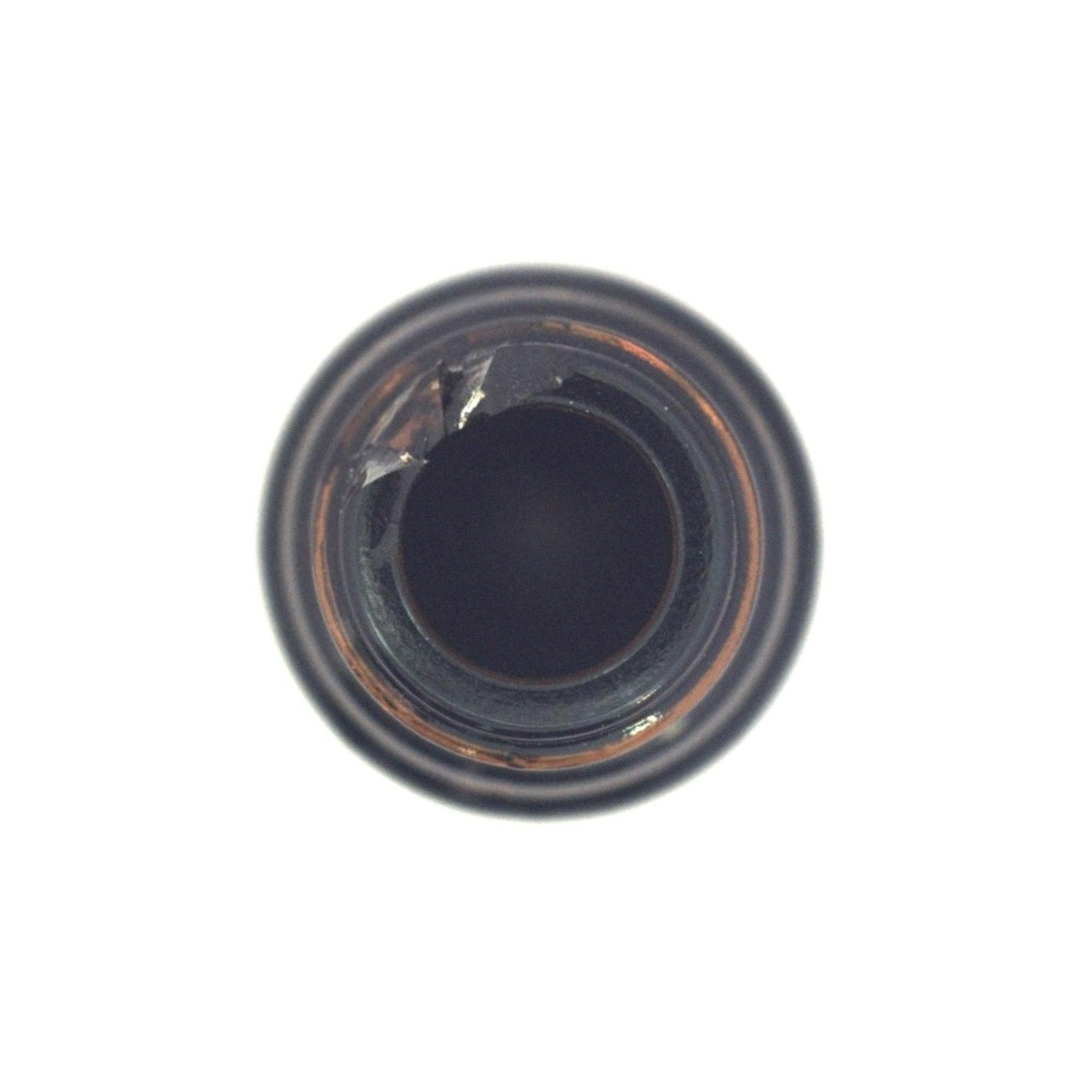bad-broken_large: (46, 56, 1032, 1031)
